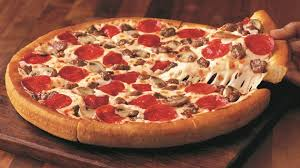pizza: (11, 15, 288, 144)
